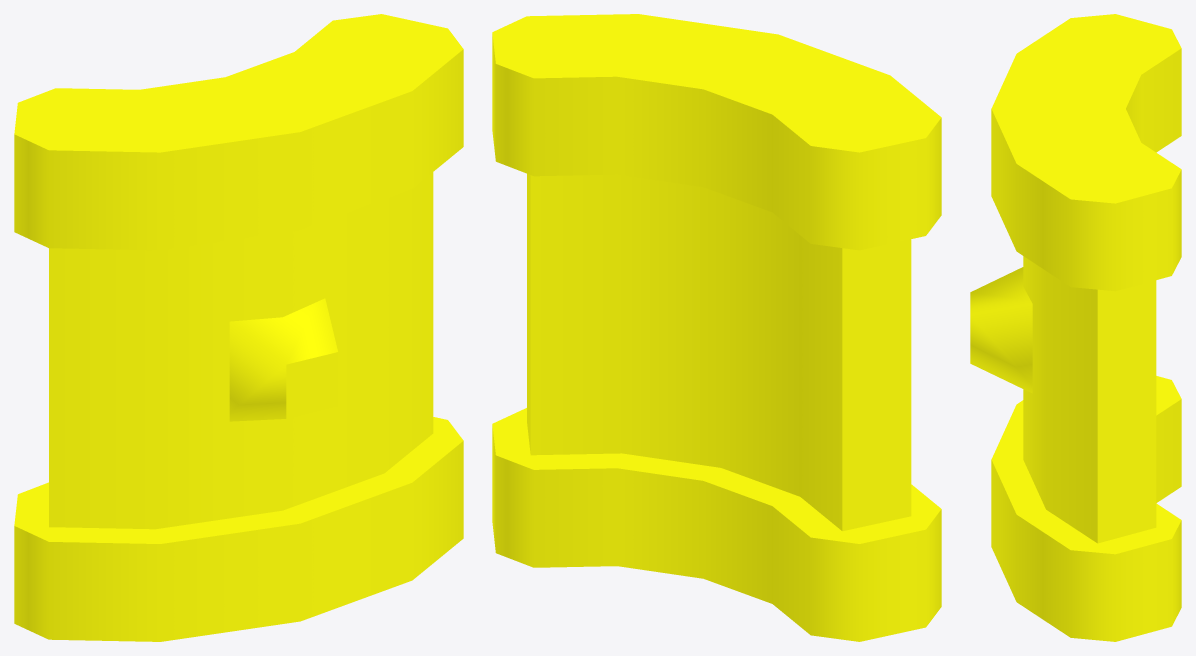
File: 装饰道具_盾牌_方形.glb
The picture shows the model from 3 angles, left to right: view 1: azimuth 30°, elevation 25°; view 2: azimuth 150°, elevation 25°; view 3: azimuth 270°, elevation 25°; orthographic projection. The views are drawn at different scales.
Parts seen in each view (by area): view 1: shield-rectangle; view 2: shield-rectangle; view 3: shield-rectangle.
Boxes of the visible parts, bbox=[...] form: shield-rectangle: bbox=[14, 14, 463, 641]; shield-rectangle: bbox=[492, 14, 941, 641]; shield-rectangle: bbox=[970, 14, 1181, 641].
Bounding box in the file's own units: 0.2759 × 0.2975 × 0.13.
Materials: 1 (1 with a texture image).
